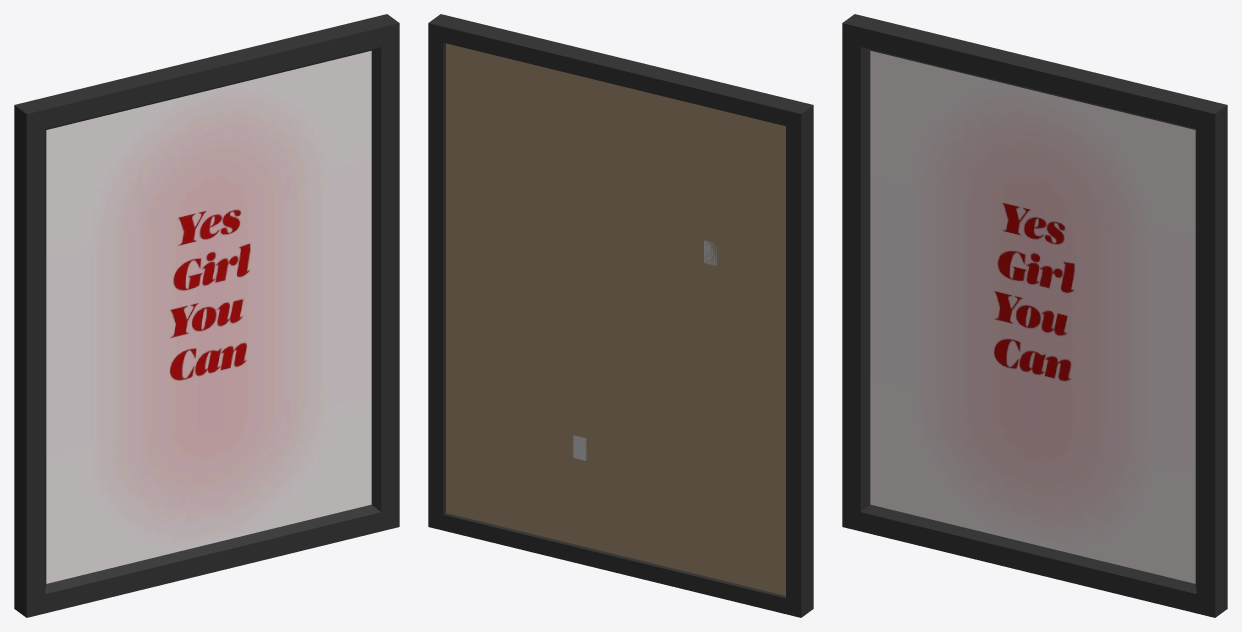
Rendered from yes-girl-30x40.glb.
The picture shows the model from 3 angles, left to right: view 1: azimuth 30°, elevation 25°; view 2: azimuth 150°, elevation 25°; view 3: azimuth 330°, elevation 25°; orthographic projection.
Parts seen in each view (by area): view 1: LAWHA 30x40; view 2: LAWHA 30x40; view 3: LAWHA 30x40.
Part boxes in pixels (box(x1,y1,x2,y2)): LAWHA 30x40: box(14, 14, 399, 617); LAWHA 30x40: box(428, 14, 813, 617); LAWHA 30x40: box(842, 14, 1227, 617).
Size of the model in its own units: 0.344 by 0.444 by 0.02.
Materials: 4 (1 with a texture image).
